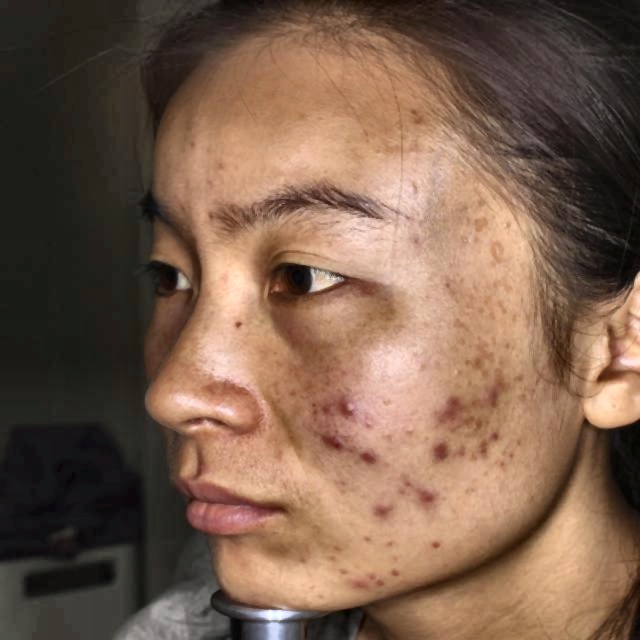pustule: (429, 390, 464, 425), (352, 568, 382, 602), (474, 370, 504, 403), (368, 497, 402, 522), (428, 436, 468, 456), (478, 427, 505, 452), (319, 428, 341, 455), (352, 445, 371, 475), (334, 395, 355, 421), (421, 489, 439, 502)
